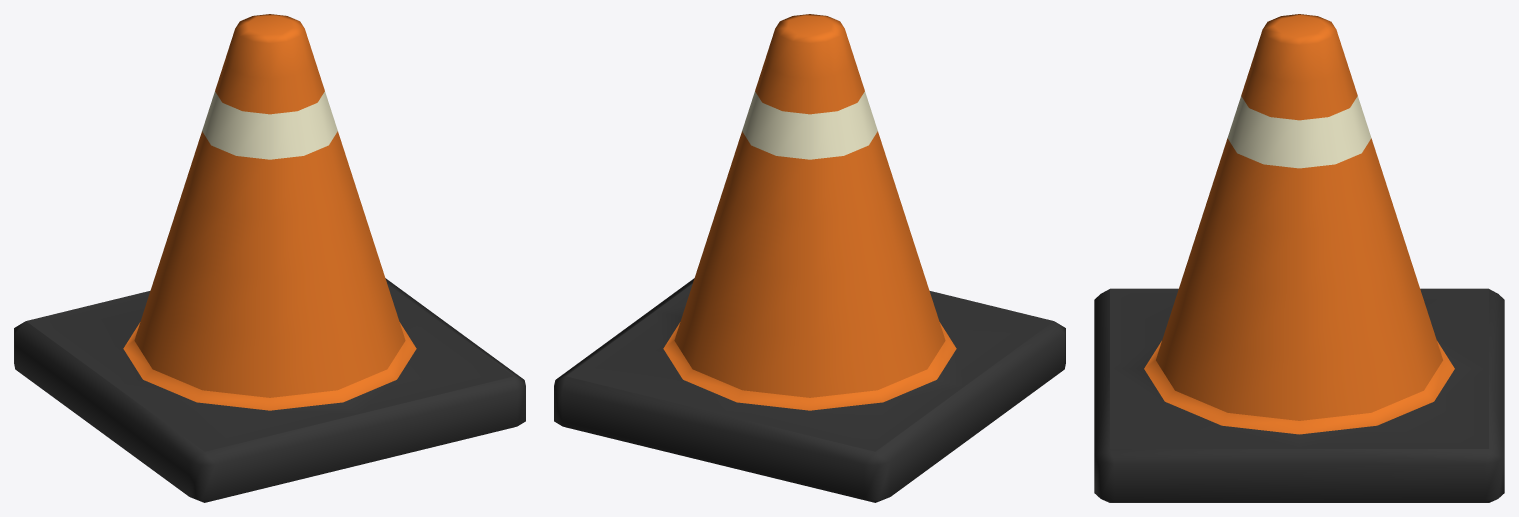
3 renders of one model, left to right at view 1: azimuth 30°, elevation 25°; view 2: azimuth 150°, elevation 25°; view 3: azimuth 270°, elevation 25°, orthographic. The views are drawn at different scales.
Visible parts, largest first — view 1: orangeCone:polySurface5; view 2: orangeCone:polySurface5; view 3: orangeCone:polySurface5.
Boxes of the visible parts, x1,y1,x2,y2 form: orangeCone:polySurface5: (14, 14, 525, 502); orangeCone:polySurface5: (554, 14, 1065, 502); orangeCone:polySurface5: (1094, 14, 1504, 502).
Size of the model in its own units: 0.0382 by 0.0407 by 0.0382.
